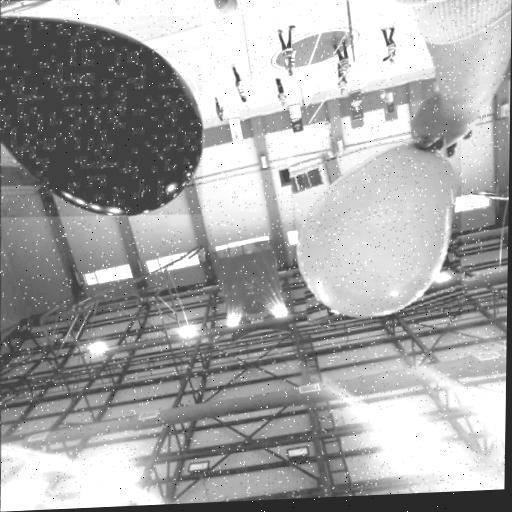balloon: (0, 7, 204, 222), (289, 133, 462, 323)
